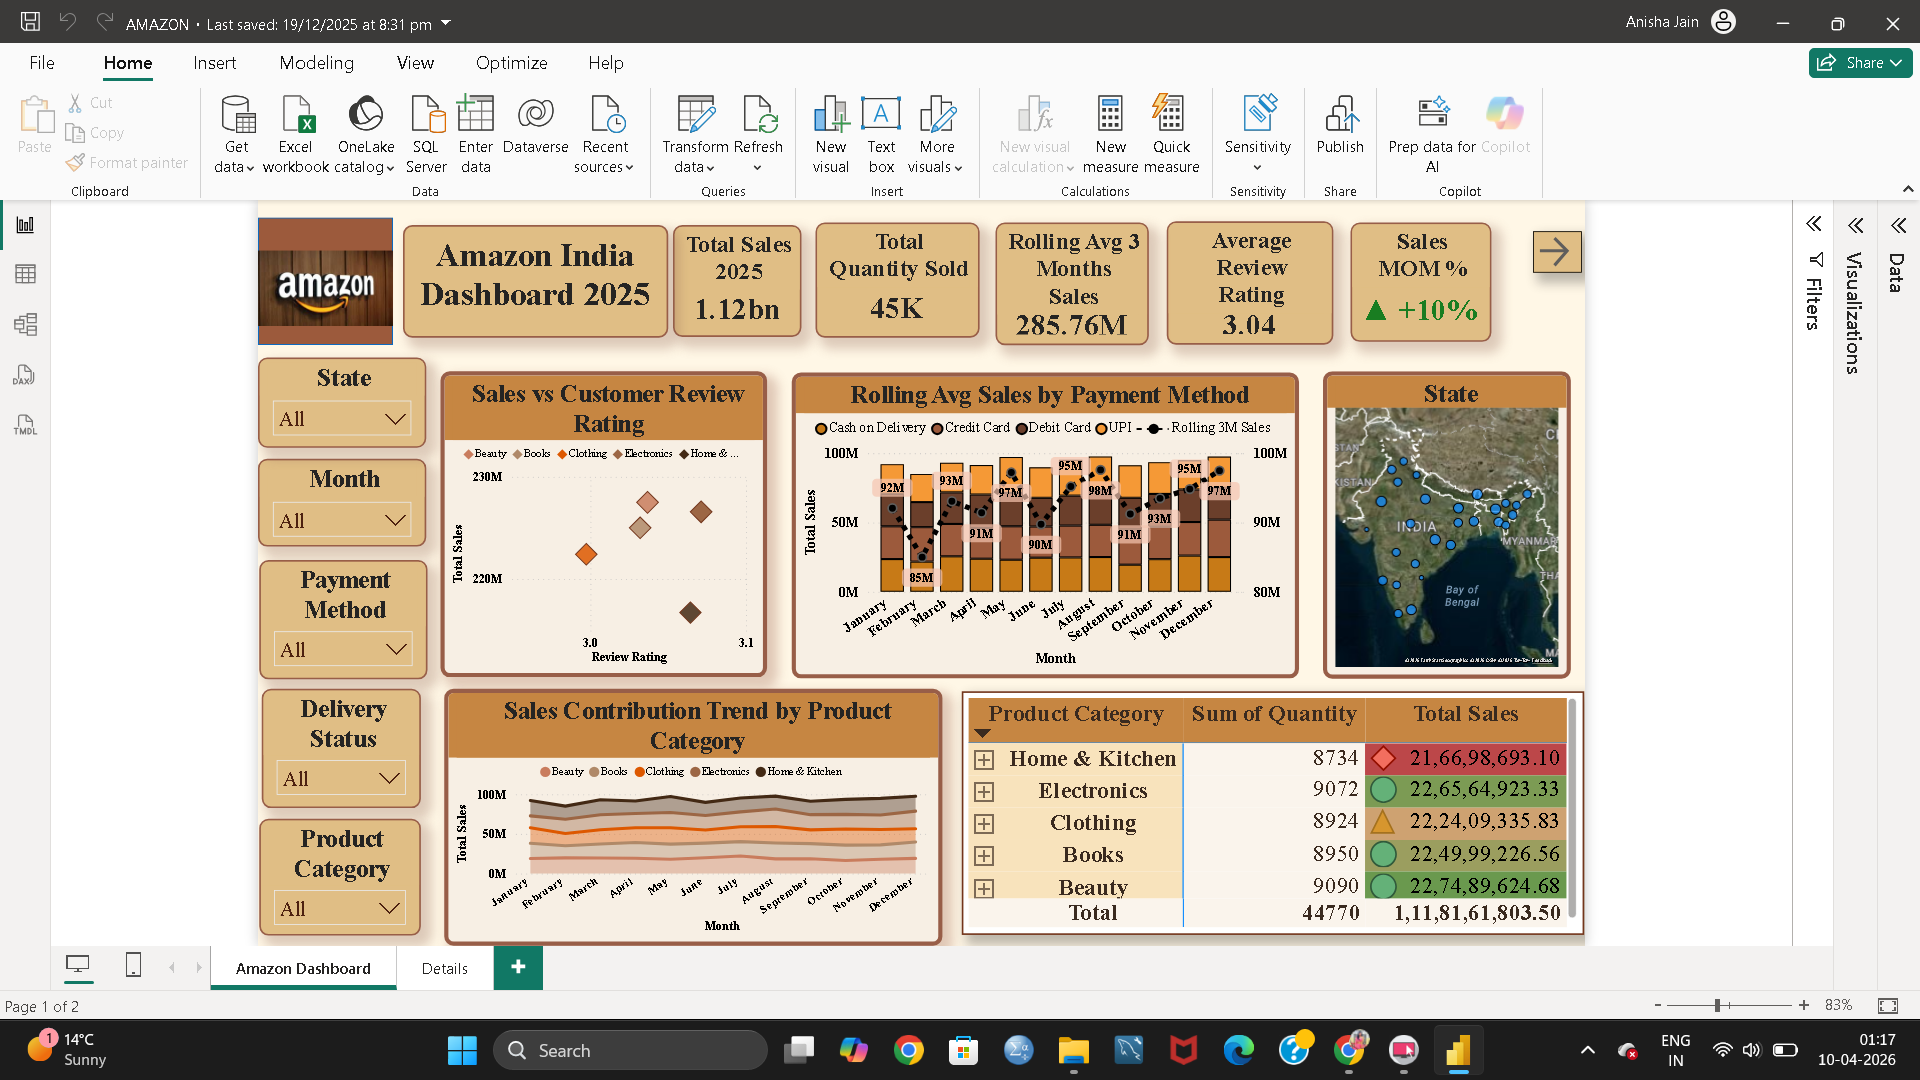

The dashboard page shown, as its layout file describes it:
{"tool":"powerbi","page":{"name":"Amazon Dashboard","canvas":[1280,720],"ordinal":0},"visuals":[{"type":"card","title":"Total Sales 2025","fields":{"Values":["DAX.Total Sales"]},"box":[401.1,24.5,124.1,108.2],"z":0},{"type":"card","title":"Total Quantity Sold","fields":{"Values":["DAX.Total Quantity Sold"]},"box":[538.2,21.6,158.7,111.1],"z":1000},{"type":"card","title":"Average Review Rating","fields":{"Values":["DAX.Avg Review Rating"]},"box":[877.2,20.2,160.1,112.5],"z":2000},{"type":"slicer","title":"Month","fields":{"Values":["Amazon 2025.Date.Variation.Date Hierarchy.Month"]},"box":[0,250,162.5,85],"z":3000},{"type":"slicer","title":"State","fields":{"Values":["Amazon 2025.State"]},"box":[0,152.5,162.5,87.5],"z":4000},{"type":"slicer","title":"Payment Method","fields":{"Values":["Amazon 2025.Payment_Method"]},"box":[1.2,347.5,162.5,115],"z":5000},{"type":"slicer","title":"Delivery Status","fields":{"Values":["Amazon 2025.Delivery_Status"]},"box":[3.8,471.2,153.8,115],"z":6000},{"type":"pivotTable","fields":{"Rows":["Amazon 2025.Product Category","Amazon 2025.Product Name","Amazon 2025.Payment_Method","Amazon 2025.Date.Variation.Date Hierarchy.Month"],"Values":["Sum(Amazon 2025.Quantity)","DAX.Total Sales"]},"box":[679.2,474.1,600.8,235.3],"z":7000},{"type":"lineStackedColumnComboChart","title":"Rolling Avg Sales by Payment Method","fields":{"Category":["Amazon 2025.Date.Variation.Date Hierarchy.Month"],"Series":["Amazon 2025.Payment_Method"],"Y":["Sum(Amazon 2025.Total_Sales_INR)"],"Y2":["DAX.Rolling 3M Sales"]},"box":[515.2,166.5,489.8,295.6],"z":8000},{"type":"slicer","title":"Product Category","fields":{"Values":["Amazon 2025.Product Category"]},"box":[1.2,597.5,156.2,112.5],"z":9000},{"type":"shape","box":[0,16.9,130.3,123.1],"z":10000},{"type":"image","box":[0,0,130.3,170.1],"z":11000},{"type":"textbox","box":[139.9,24.1,255.8,108.6],"z":12000},{"type":"card","title":"Rolling Avg 3 Months Sales","fields":{"Values":["DAX.Rolling 3M Sales"]},"box":[711.3,21.6,148.6,112.5],"z":13000},{"type":"actionButton","box":[1230,30,47.5,40],"z":14000},{"type":"azureMap","title":"State","fields":{"Category":["Amazon 2025.State"],"Size":["Sum(Amazon 2025.Total Sales)"]},"box":[1027.9,165.3,238.9,296.8],"z":15000},{"type":"scatterChart","title":"Sales vs Customer Review Rating","fields":{"Series":["Amazon 2025.Product Category"],"Size":["Sum(Amazon 2025.Quantity)"],"X":["Avg(Amazon 2025.Review_Rating)"],"Y":["DAX.Total Sales"]},"box":[176.1,165.3,314.9,295.6],"z":16000},{"type":"stackedAreaChart","title":"Sales Contribution Trend by Product Category","fields":{"Category":["Amazon 2025.Date.Variation.Date Hierarchy.Month"],"Series":["Amazon 2025.Product Category"],"Y":["DAX.Total Sales"]},"box":[180.3,471.8,480.4,248.2],"z":17000},{"type":"card","title":"Sales MOM %","fields":{"Values":["DAX.Sales MoM Display"]},"box":[1054.7,21.6,135.6,115.4],"z":18000}]}

Visuals, with their boxes on the page's 1280x720 design canvas (x1, y1, x2, y2). These are canvas units, not pixel positions in the 1920x1080 screenshot, which may show the page scaled, cropped or inside an application window:
"Total Sales 2025" card: (left=401, top=24, right=525, bottom=133)
"Total Quantity Sold" card: (left=538, top=22, right=697, bottom=133)
"Average Review Rating" card: (left=877, top=20, right=1037, bottom=133)
"Month" slicer: (left=0, top=250, right=162, bottom=335)
"State" slicer: (left=0, top=152, right=162, bottom=240)
"Payment Method" slicer: (left=1, top=348, right=164, bottom=462)
"Delivery Status" slicer: (left=4, top=471, right=158, bottom=586)
pivotTable - Amazon 2025.Product Category x Amazon 2025.Product Name: (left=679, top=474, right=1280, bottom=709)
"Rolling Avg Sales by Payment Method" lineStackedColumnComboChart: (left=515, top=166, right=1005, bottom=462)
"Product Category" slicer: (left=1, top=598, right=157, bottom=710)
shape: (left=0, top=17, right=130, bottom=140)
image: (left=0, top=0, right=130, bottom=170)
textbox: (left=140, top=24, right=396, bottom=133)
"Rolling Avg 3 Months Sales" card: (left=711, top=22, right=860, bottom=134)
actionButton: (left=1230, top=30, right=1278, bottom=70)
"State" azureMap: (left=1028, top=165, right=1267, bottom=462)
"Sales vs Customer Review Rating" scatterChart: (left=176, top=165, right=491, bottom=461)
"Sales Contribution Trend by Product Category" stackedAreaChart: (left=180, top=472, right=661, bottom=720)
"Sales MOM %" card: (left=1055, top=22, right=1190, bottom=137)
